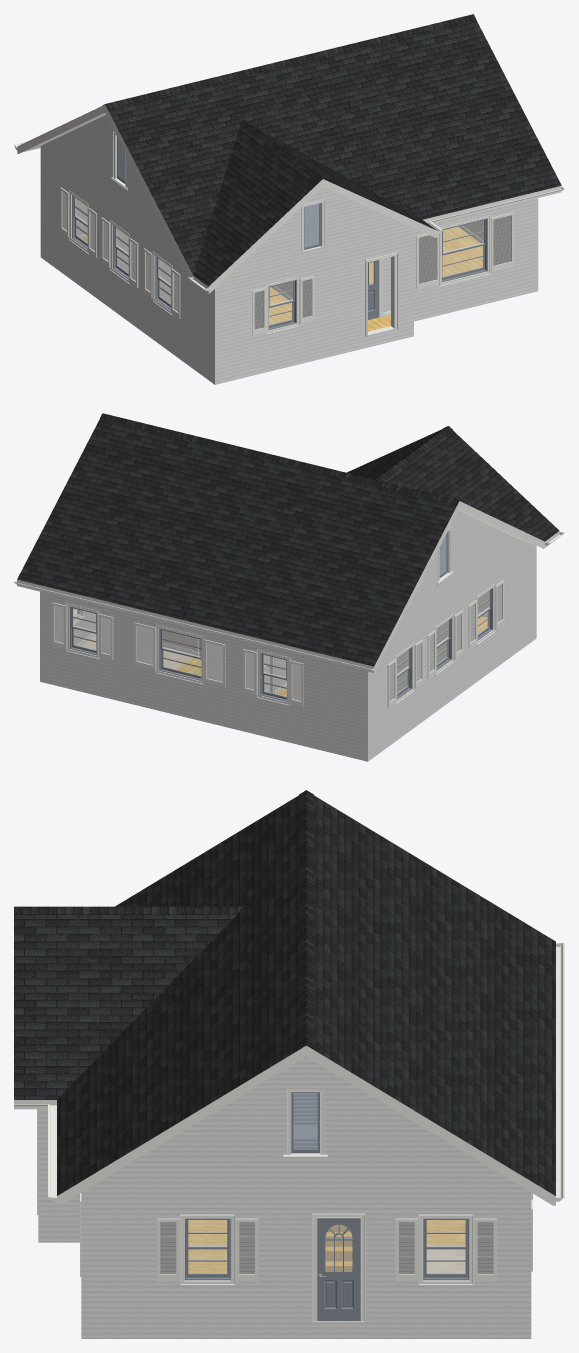
File: bungalow.glb
3 views of the same model, one above another, from view 1: azimuth 30°, elevation 25°; view 2: azimuth 150°, elevation 25°; view 3: azimuth 270°, elevation 25° (orthographic). The views are drawn at different scales.
Visible parts, largest first — view 1: Object_4, Object_19, Object_7, Object_14, Object_23, Object_10, Object_9, Object_24, Object_8, Object_6, Object_15, Object_13; view 2: Object_4, Object_19, Object_9, Object_23, Object_14, Object_6, Object_10, Object_7, Object_15, Object_8, Object_25, Object_24; view 3: Object_4, Object_19, Object_10, Object_14, Object_7, Object_23, Object_6, Object_24, Object_12, Object_8, Object_25, Object_2.
Part boxes in pixels (box(x1,y1,x2,y2)): Object_4: box(25, 14, 561, 286); Object_19: box(40, 115, 538, 384); Object_7: box(14, 105, 561, 335); Object_14: box(72, 136, 487, 330); Object_23: box(75, 198, 483, 324); Object_10: box(416, 212, 513, 289); Object_9: box(60, 187, 138, 287); Object_24: box(82, 226, 482, 331); Object_8: box(111, 130, 325, 318); Object_6: box(17, 105, 564, 316); Object_15: box(77, 200, 483, 303); Object_13: box(365, 252, 397, 336); Object_4: box(17, 413, 559, 666); Object_19: box(40, 511, 536, 761); Object_9: box(52, 602, 463, 707); Object_23: box(73, 590, 489, 696); Object_14: box(70, 532, 492, 701); Object_6: box(17, 501, 564, 693); Object_10: box(73, 609, 225, 687); Object_7: box(14, 501, 559, 671); Object_15: box(74, 592, 487, 692); Object_8: box(437, 526, 504, 648); Object_25: box(81, 635, 192, 669); Object_24: box(176, 616, 487, 696); Object_4: box(14, 790, 555, 1195); Object_19: box(38, 1057, 531, 1338); Object_10: box(80, 1193, 496, 1285); Object_14: box(185, 1092, 469, 1320); Object_7: box(14, 942, 564, 1205); Object_23: box(188, 1220, 465, 1273); Object_6: box(14, 1045, 555, 1205); Object_24: box(188, 1220, 465, 1273); Object_12: box(312, 1213, 366, 1322); Object_8: box(283, 1088, 327, 1159); Object_25: box(426, 1249, 465, 1273); Object_2: box(325, 1224, 352, 1270).
Bounding box in the file's own units: 426 × 235 × 384.
17 materials, 9 textured.
